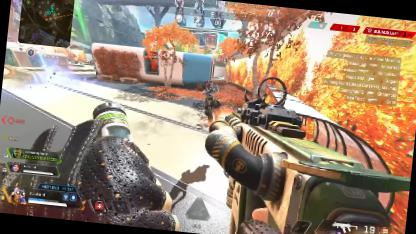Target: (197, 78, 223, 119)
